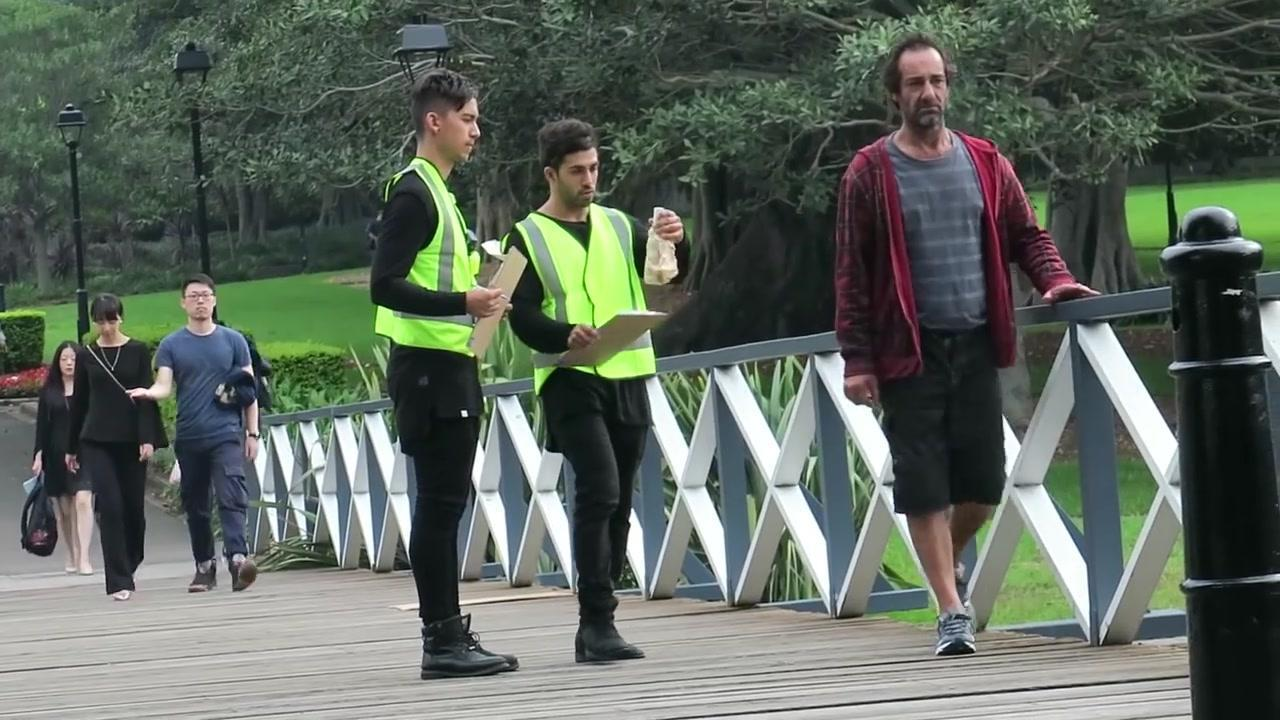vest: (500, 205, 658, 390), (374, 155, 479, 354)
